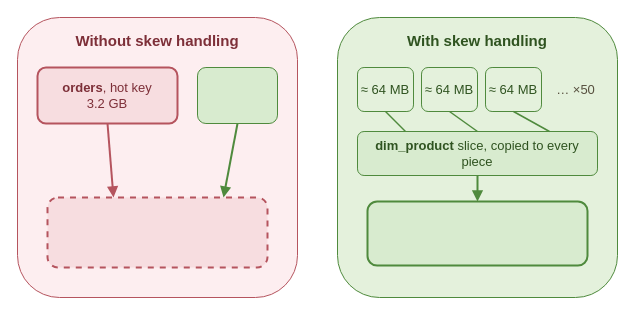
Some shapes in this 635 by 315 pixel diagram are drawn without their labels. The shapes that lost their labels are listed below. From the top down, each one's centre as x and y in pixels, then its label:
At (237,95): "dim_product ≈ 1 MB".
At (157,232): "1 task reads 3.2 GB the stage waits for it".
At (477,233): "≈ 50 tasks in parallel each as fast as a normal task".
